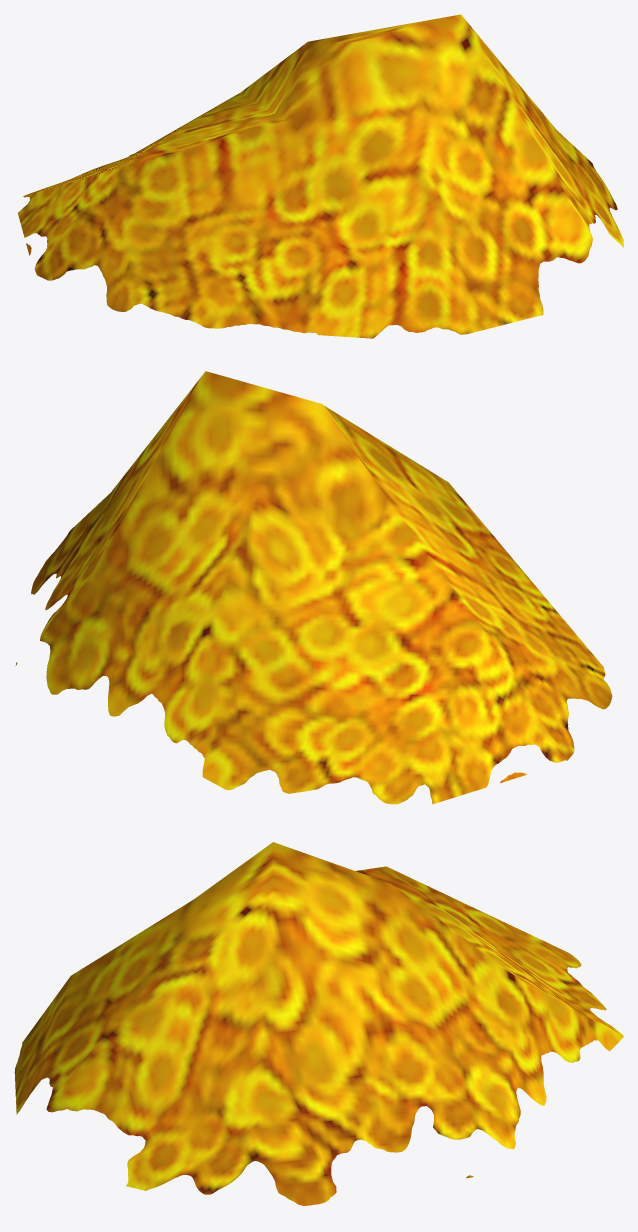
Rendered from gold_1.FBX.
The picture shows the model from 3 angles, top to bottom: view 1: azimuth 30°, elevation 25°; view 2: azimuth 150°, elevation 25°; view 3: azimuth 270°, elevation 25°; orthographic projection. The views are drawn at different scales.
Parts seen in each view (by area): view 1: Object486; view 2: Object486; view 3: Object486.
Boxes of the visible parts, x1,y1,x2,y2 form: Object486: [18, 14, 623, 338]; Object486: [15, 371, 612, 804]; Object486: [14, 842, 623, 1205].
Size of the model in its own units: 111 by 42.91 by 98.55.
